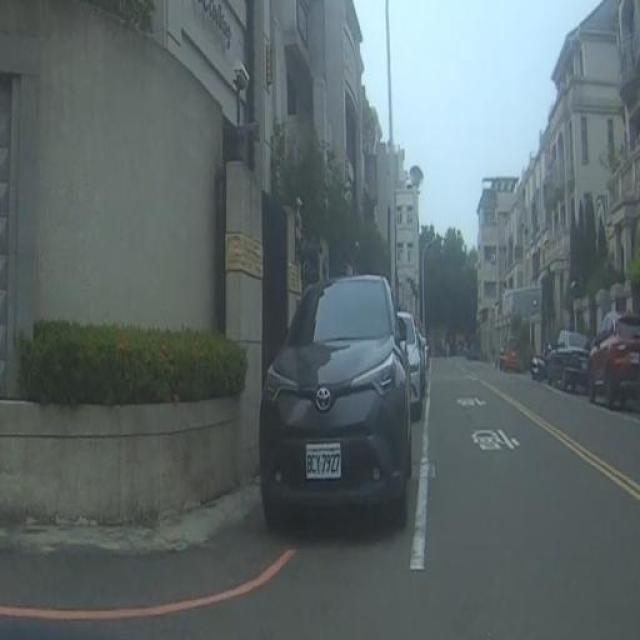Legalparking: (247, 235, 451, 568)
